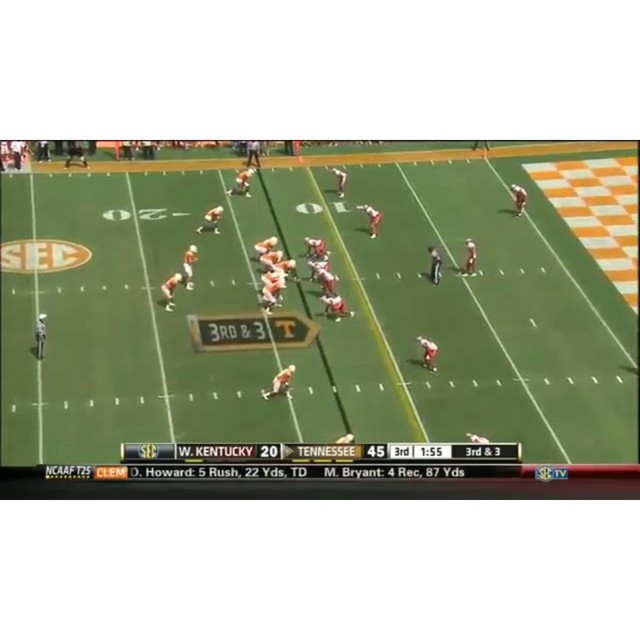american-football-player: (261, 363, 296, 401), (320, 294, 356, 323), (225, 168, 258, 198), (258, 281, 286, 316), (195, 204, 224, 235), (361, 204, 385, 240), (160, 273, 182, 312), (416, 335, 439, 372), (182, 244, 199, 290), (304, 237, 330, 263), (509, 184, 528, 219), (253, 236, 279, 260), (463, 237, 479, 276), (259, 250, 284, 272), (331, 167, 348, 198)
referee: (31, 313, 48, 361), (427, 246, 443, 286)
